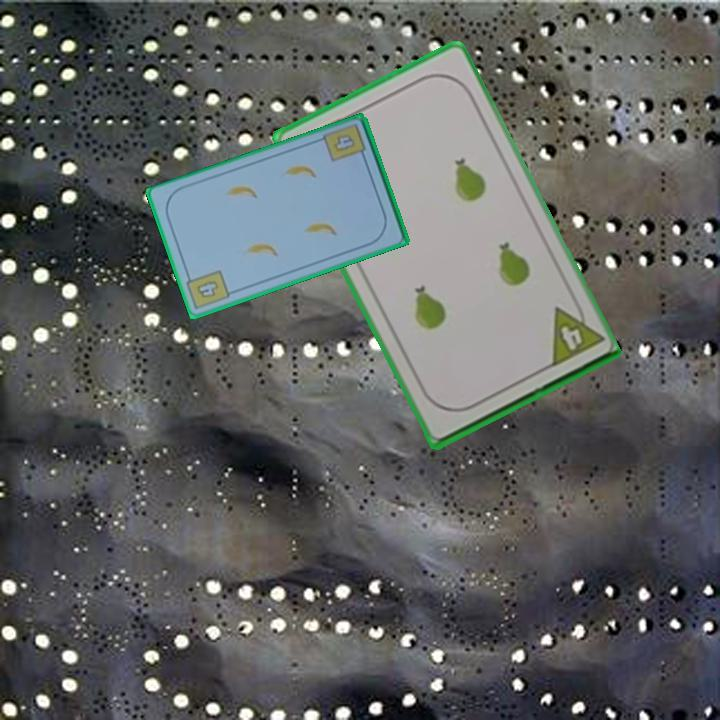4b: (182, 266, 233, 310), (330, 131, 358, 155)
4p: (545, 295, 605, 371)
